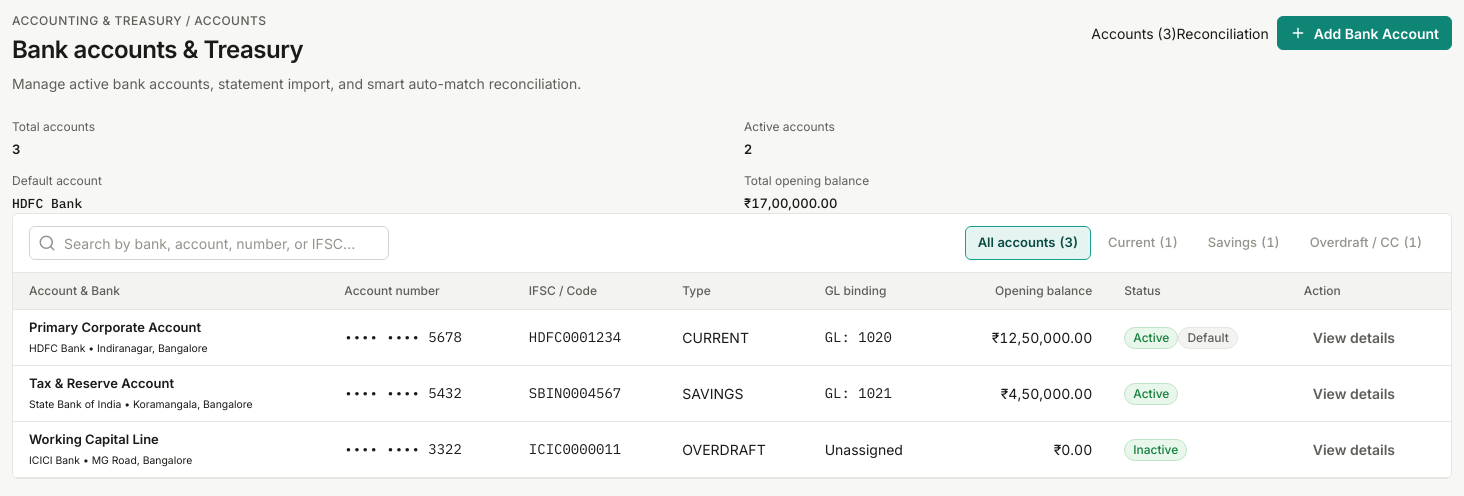
Scenario: BankingPage › switches between Accounts view and Reconciliation view
Check: the text "Primary Corporate Account" is shown, box [29,319,201,335]
Click the tab "Reconciliation": (1223, 33) [1176,22,1269,44]
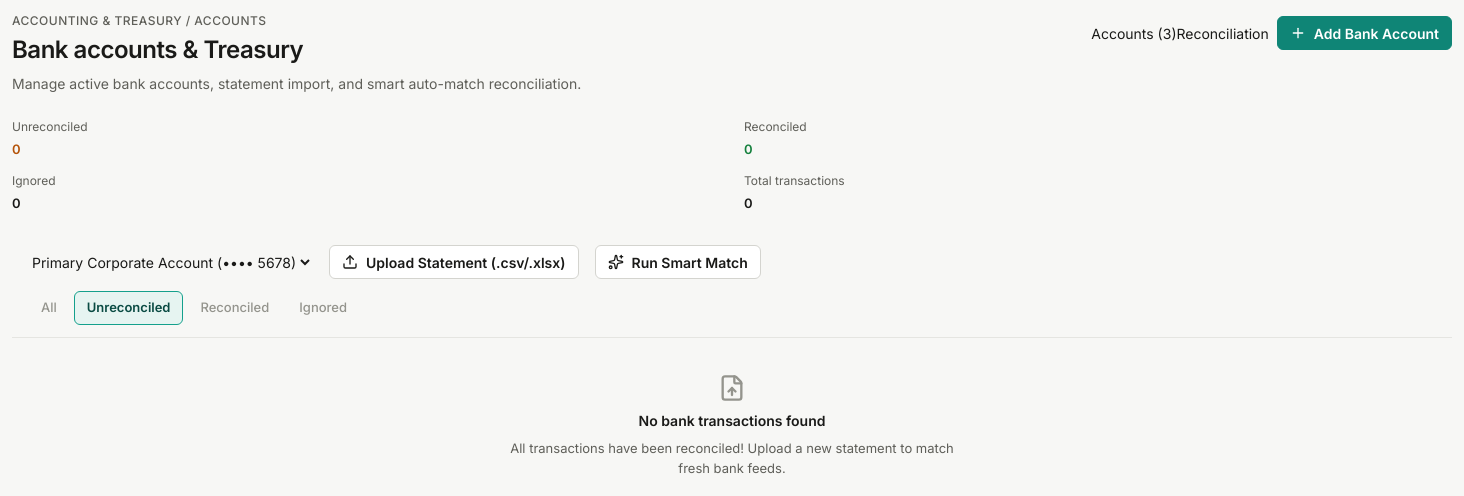
Check: the button "Upload Statement (.csv/.xlsx)" is shown, box [329,245,578,279]
